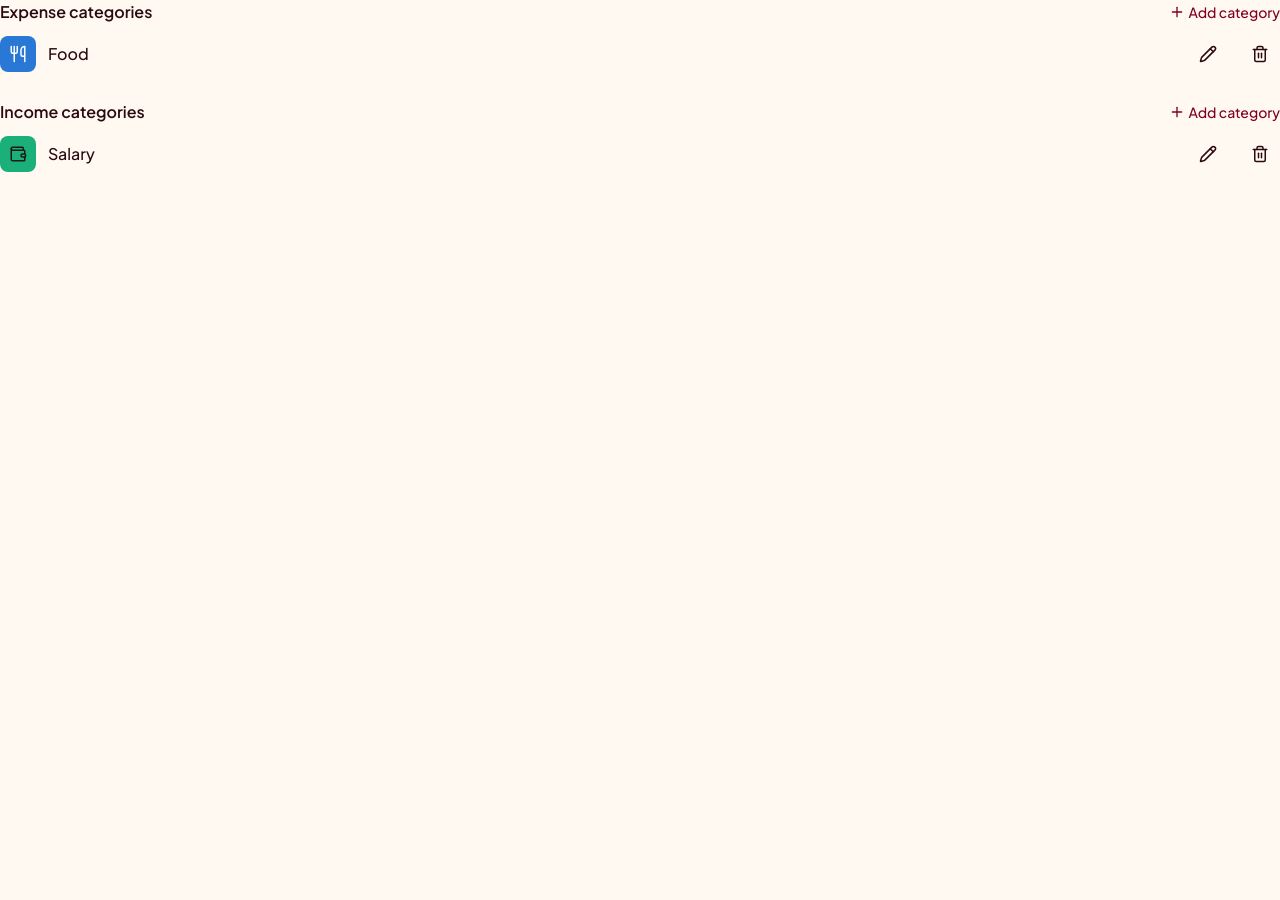
Test: CategoryManager › archives only after confirmation
The image size is (1280, 900).
Click the button named "Delete Food".
click(1260, 54)  # box [1240,34,1279,74]
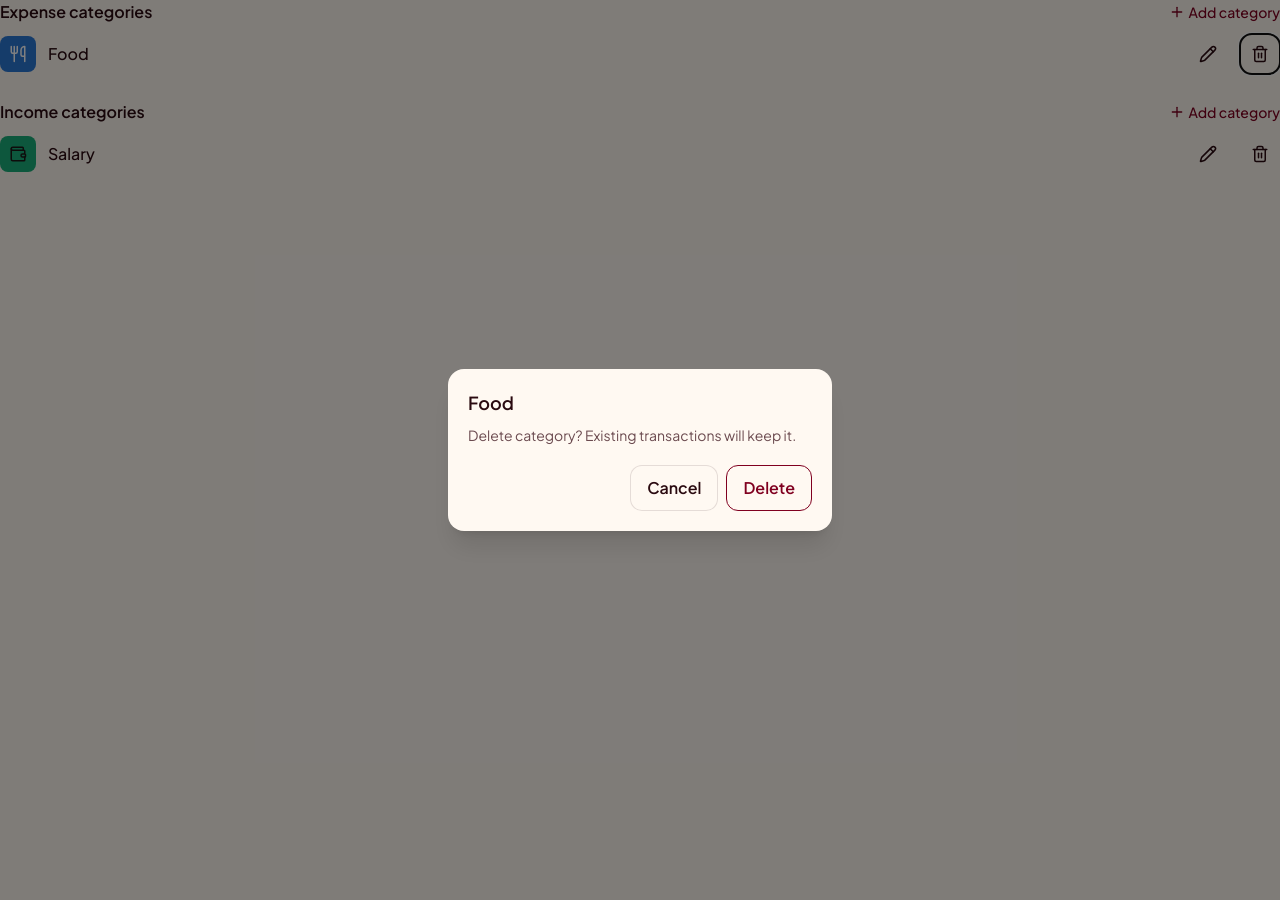
Check: the text "Delete category? Existing transactions will keep it." is shown, box [468,425,812,445]
Click the button "Cancel".
click(674, 488)  # box [630,465,718,511]
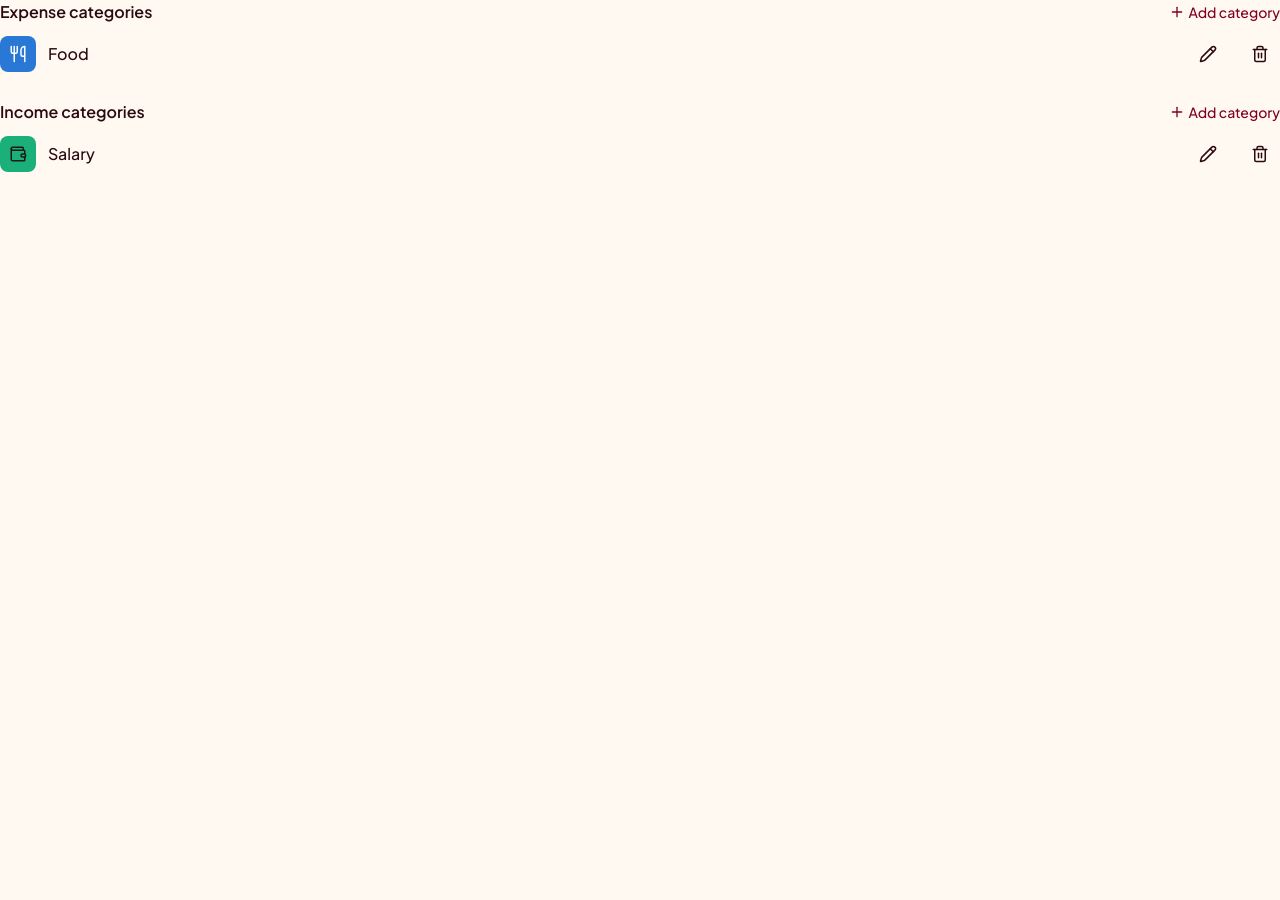
Click the button named "Delete Food".
click(1260, 54)  # box [1240,34,1279,74]
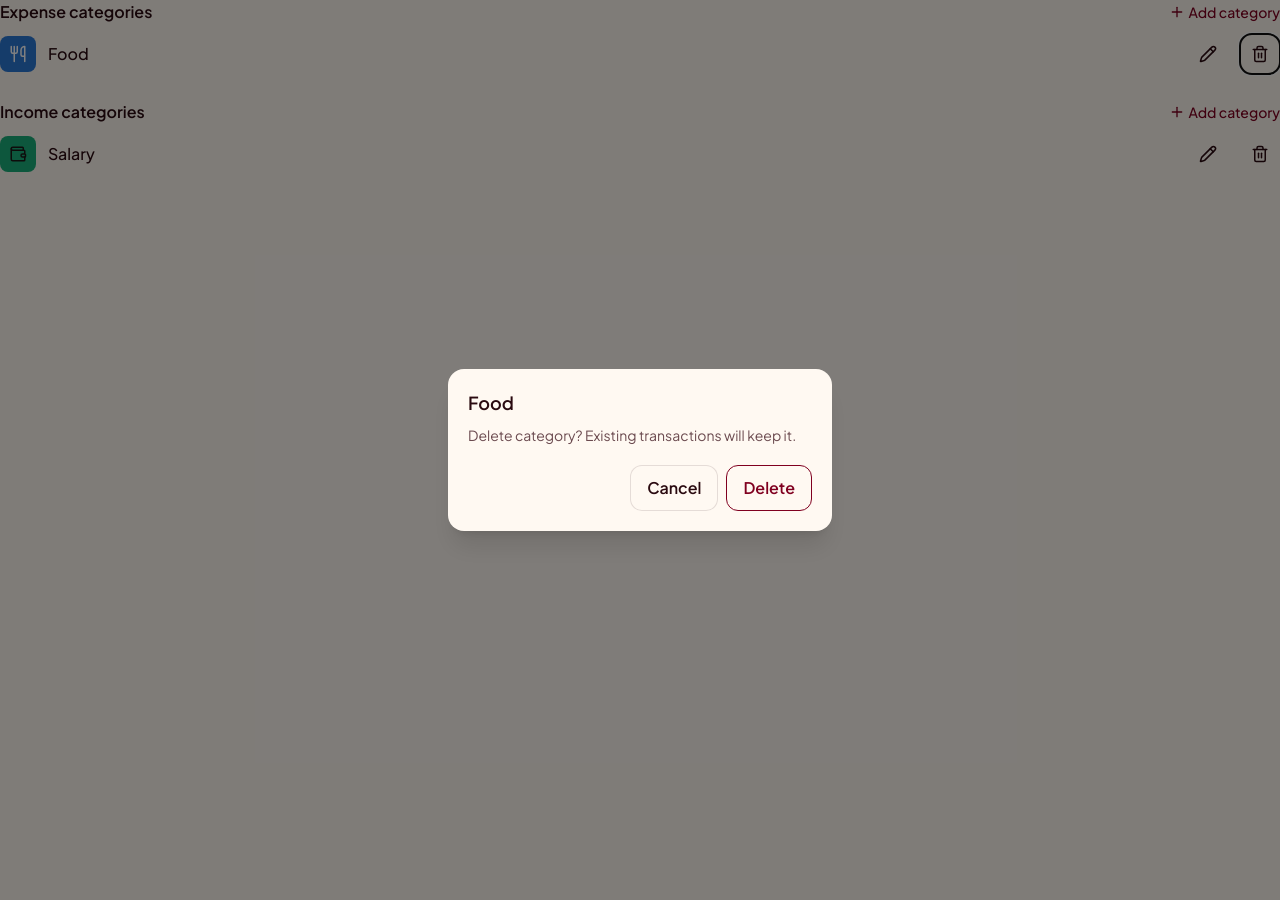
Click the button "Delete".
click(769, 488)  # box [726,465,812,511]
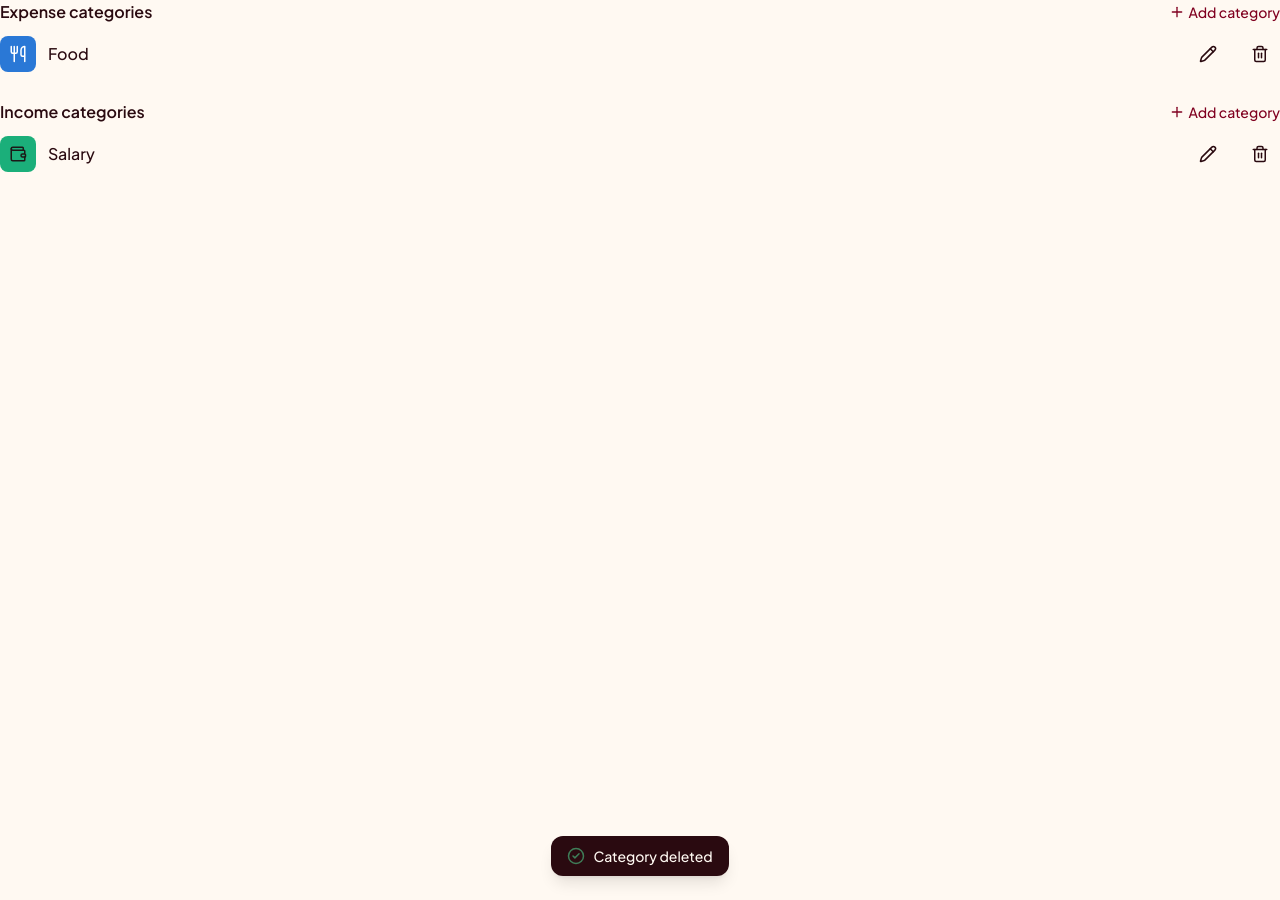
Check: the text "Category deleted" is shown, box [551,836,729,876]
